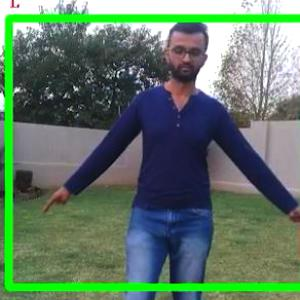land: (43, 33, 299, 299)
